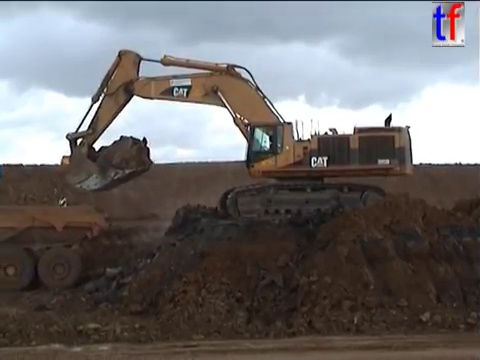excavator: (62, 46, 416, 227)
truck: (1, 202, 111, 291), (60, 154, 75, 168)
worker: (55, 191, 70, 219)
